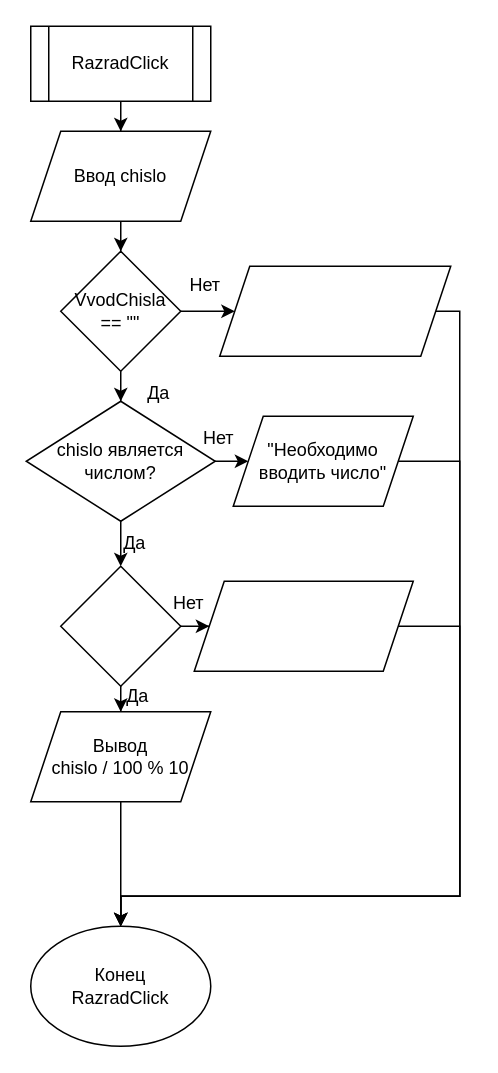
Image size: 498x1073. Some labels were removed from this diagram. The box of each missing label's shape, as (x1, y1, x2, y2) in pixels:
"Окно ввода не может быть пустым": (218, 265, 451, 356)
"Число должно быть больше 999": (193, 580, 413, 671)
chislo > 999: (59, 565, 181, 686)
